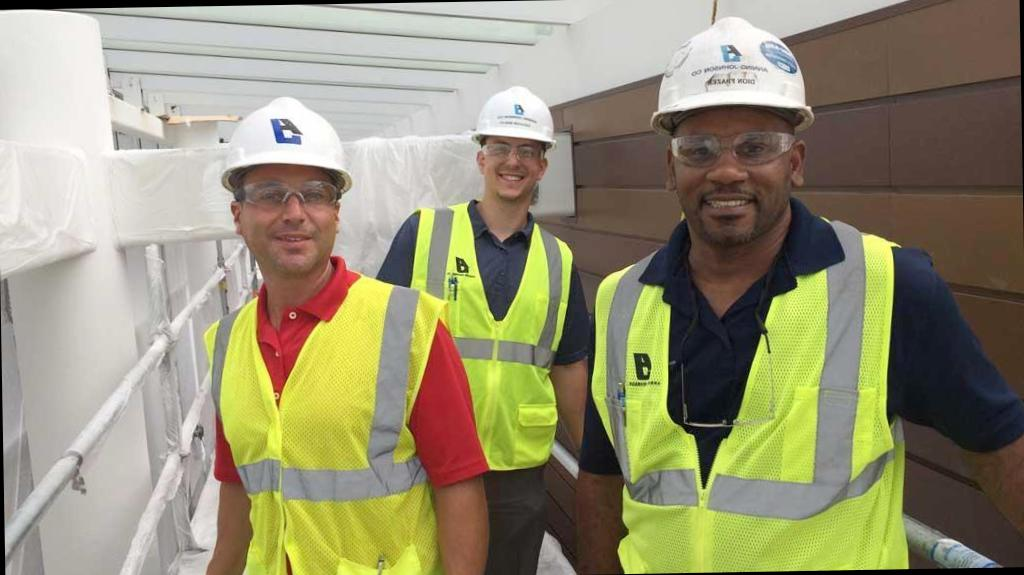helmet: (642, 17, 824, 134), (214, 96, 368, 194), (464, 82, 566, 157)
person: (581, 7, 940, 572), (189, 79, 458, 575), (366, 72, 603, 574)
